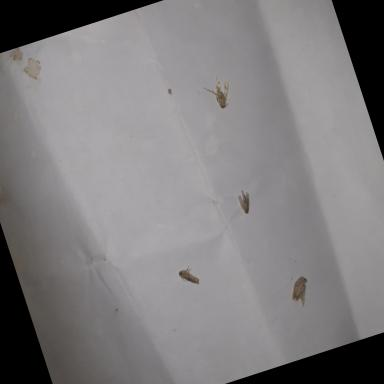pbw: (202, 78, 234, 112), (286, 274, 314, 308), (177, 263, 201, 288), (236, 187, 254, 213)
